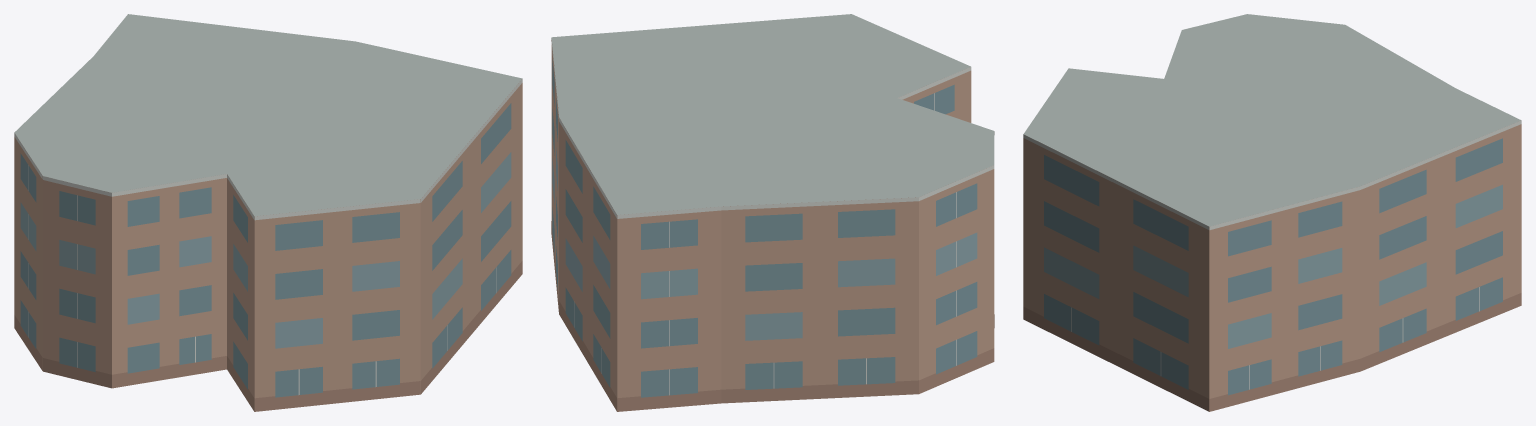
File: residential-7e6352a1-4544-4217-96b3-fa06e8e282fb.glb
3 views of the same model, side by side, from view 1: azimuth 30°, elevation 25°; view 2: azimuth 150°, elevation 25°; view 3: azimuth 270°, elevation 25° (orthographic). The views are drawn at different scales.
Visible parts, largest first — view 1: residential-7e6352a1-4544-4217-96b3-fa06e8e282fb.tmp; view 2: residential-7e6352a1-4544-4217-96b3-fa06e8e282fb.tmp; view 3: residential-7e6352a1-4544-4217-96b3-fa06e8e282fb.tmp.
Part boxes in pixels (<box>): residential-7e6352a1-4544-4217-96b3-fa06e8e282fb.tmp: <box>14,14,522,411</box>; residential-7e6352a1-4544-4217-96b3-fa06e8e282fb.tmp: <box>551,14,994,411</box>; residential-7e6352a1-4544-4217-96b3-fa06e8e282fb.tmp: <box>1023,14,1521,411</box>.
Size of the model in its own units: 30.03 by 12.2 by 29.73.
